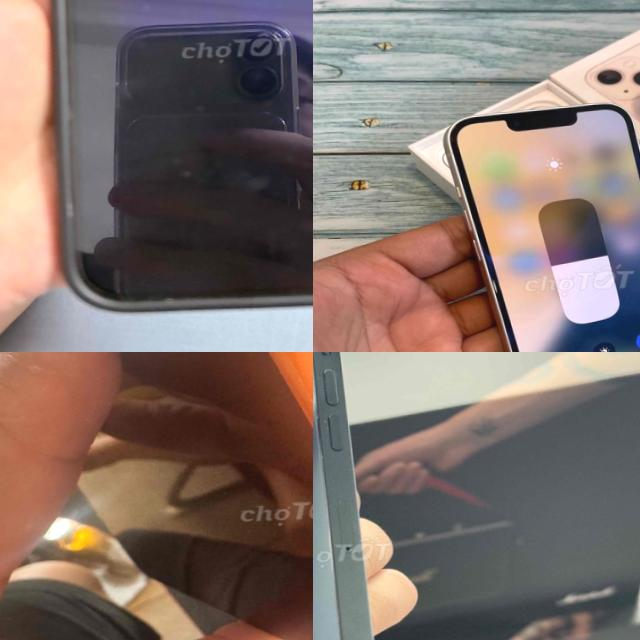gen_12_13: (36, 0, 313, 326), (443, 99, 640, 352), (313, 352, 391, 640)
gen_17: (89, 352, 313, 640)
